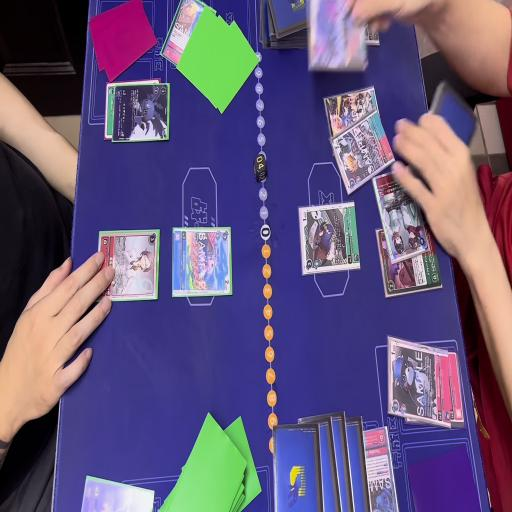card: (375, 212, 442, 299), (372, 167, 431, 265), (386, 338, 449, 429), (329, 109, 392, 194), (98, 225, 161, 303), (299, 198, 361, 277), (306, 0, 371, 75), (171, 222, 235, 298), (112, 82, 172, 148), (158, 0, 209, 66), (322, 84, 381, 136), (364, 427, 400, 512), (82, 473, 156, 512), (444, 350, 469, 431), (104, 86, 116, 144), (364, 18, 383, 50)
